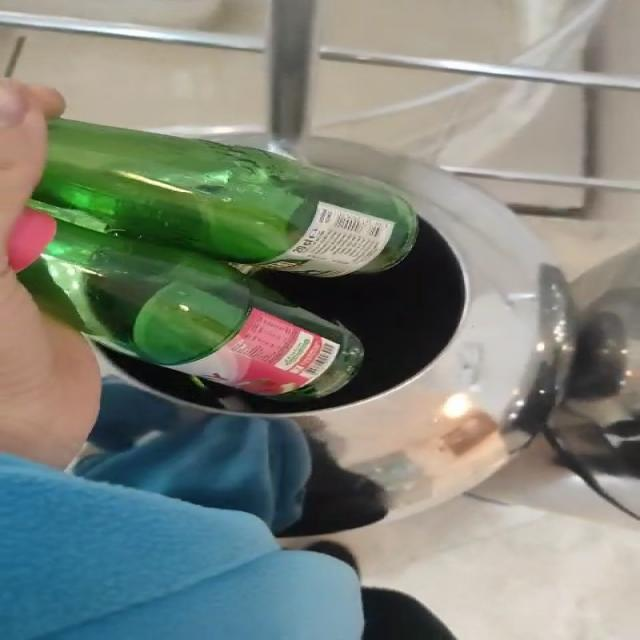Glass: (20, 119, 419, 400)
